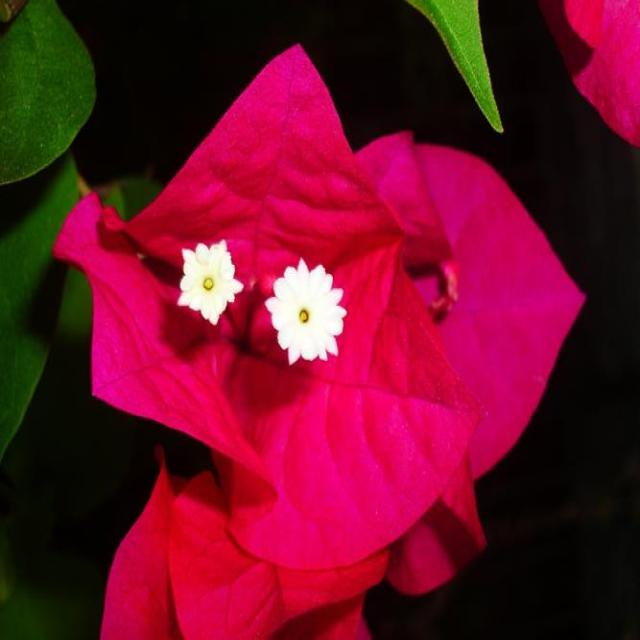bougainvillea: (45, 50, 607, 640)
